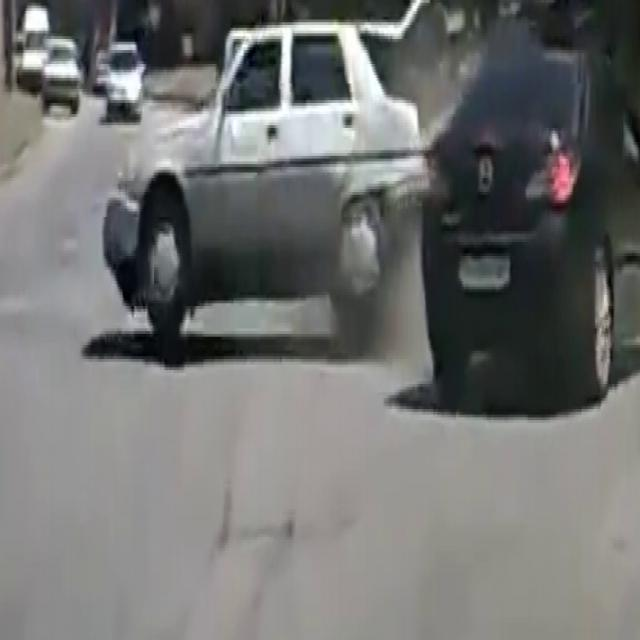accident: (97, 13, 426, 358)
